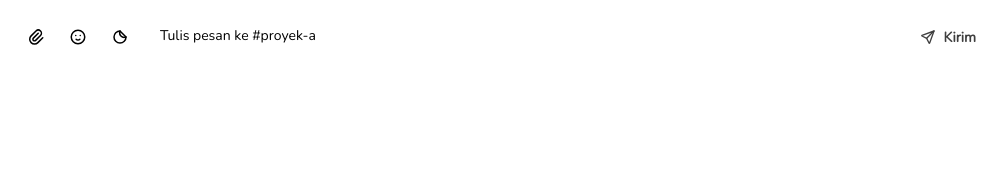
Test: Komposer › gagal mengirim: error tampil, teks dan lampiran tetap
The image size is (993, 173).
Click the button named "Lampirkan file". click: (36, 37)
box: [16, 16, 56, 58]
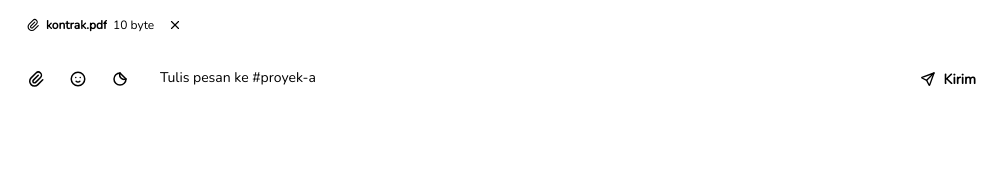
Result: the text "kontrak.pdf" is shown at [46, 16, 107, 34]
Type "Tolong cek" into the dropdown named "Pesan untuk". click: (522, 79)
box: [148, 58, 896, 100]
Then press Enter
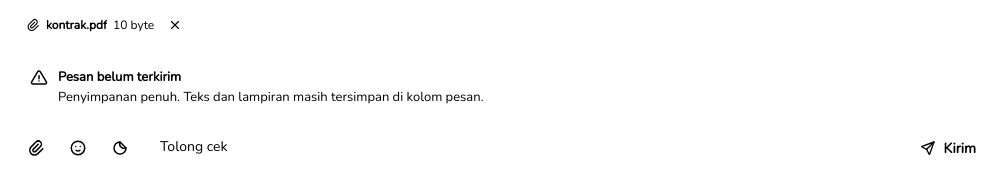
Result: the text "kontrak.pdf" is shown at [46, 16, 107, 34]
Result: the text "Pesan belum terkirim" is shown at [58, 68, 181, 86]
Result: the text "Penyimpanan penuh." is shown at [58, 88, 180, 106]
